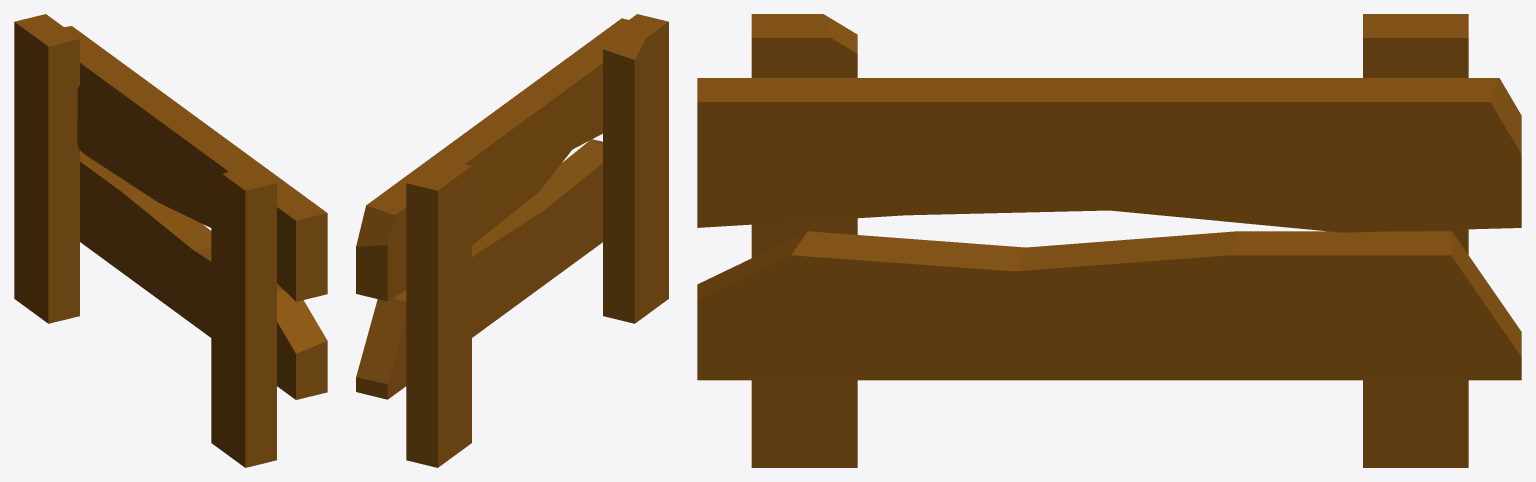
The model's file is fences04.glb.
3 renders of one model, left to right at view 1: azimuth 30°, elevation 25°; view 2: azimuth 150°, elevation 25°; view 3: azimuth 270°, elevation 25°, orthographic. The views are drawn at different scales.
Visible parts, largest first — view 1: Cube; view 2: Cube; view 3: Cube.
Part boxes in pixels (box(x1,y1,x2,y2)): Cube: box(14, 14, 327, 467); Cube: box(356, 14, 668, 467); Cube: box(697, 14, 1521, 467).
Bounding box in the file's own units: 0.3845 × 1.5 × 2.61.
